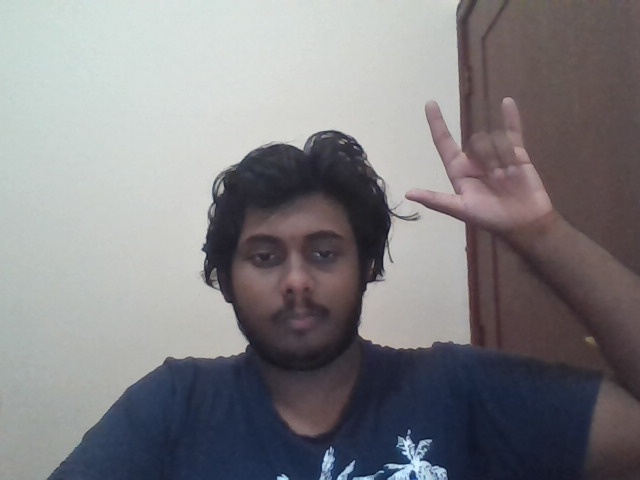iloveyou: (405, 95, 554, 235)
